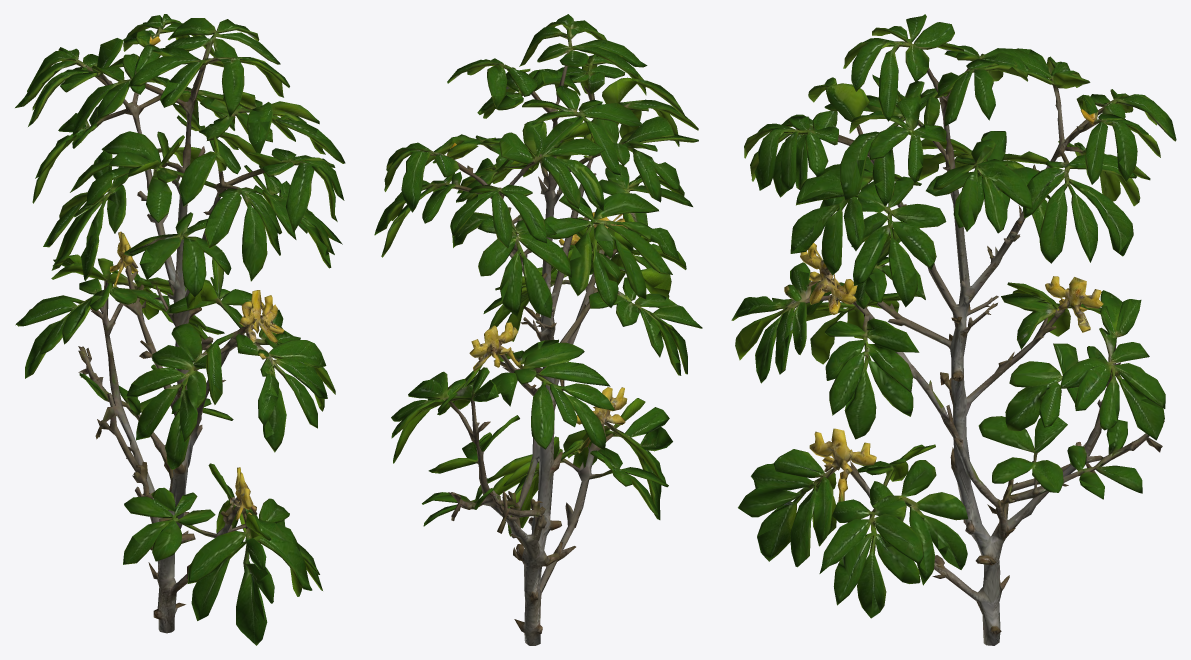
File: planta_3.fbx
The picture shows the model from 3 angles, left to right: view 1: azimuth 30°, elevation 25°; view 2: azimuth 150°, elevation 25°; view 3: azimuth 270°, elevation 25°; orthographic projection. The views are drawn at different scales.
Visible parts, largest first — view 1: tripo_node_0d2a9d86; view 2: tripo_node_0d2a9d86; view 3: tripo_node_0d2a9d86.
Boxes of the visible parts, left/top/right/bottom form: tripo_node_0d2a9d86: left=15, top=14, right=345, bottom=645; tripo_node_0d2a9d86: left=374, top=14, right=702, bottom=645; tripo_node_0d2a9d86: left=731, top=14, right=1176, bottom=645.
Size of the model in its own units: 5.45 by 12.35 by 8.15.
1 material, 1 textured.
